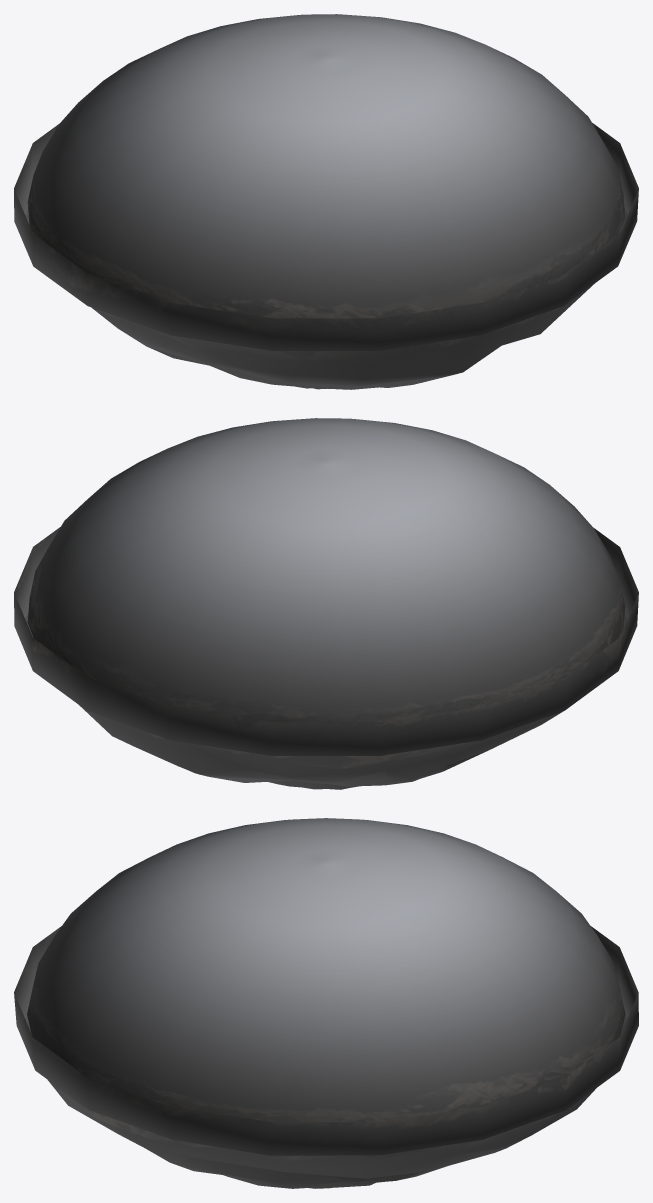
Rendered from Sky.fbx.
3 renders of one model, top to bottom at view 1: azimuth 30°, elevation 25°; view 2: azimuth 150°, elevation 25°; view 3: azimuth 270°, elevation 25°, orthographic.
Parts seen in each view (by area): view 1: m9100B1A18; view 2: m9100B1A18; view 3: m9100B1A18.
Boxes of the visible parts, x1,y1,x2,y2 form: m9100B1A18: [14, 14, 638, 389]; m9100B1A18: [14, 418, 638, 789]; m9100B1A18: [14, 818, 638, 1188].
Size of the model in its own units: 5781 by 3198 by 5874.
